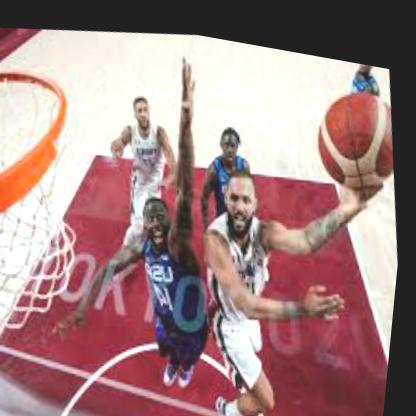basketball: (309, 67, 404, 190)
rim: (0, 56, 89, 239)
